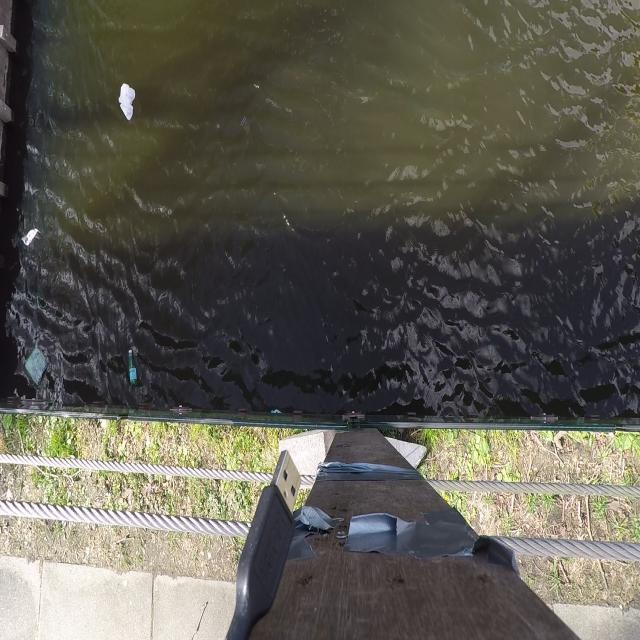Bouteille plastique: (123, 343, 142, 391)
Sac plastique: (116, 80, 142, 122)
